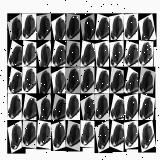Helmet: (52, 122, 66, 150), (81, 68, 95, 95), (140, 68, 154, 95), (110, 120, 124, 147), (80, 94, 94, 120), (96, 124, 110, 150), (141, 122, 154, 150), (22, 14, 36, 39), (8, 42, 22, 67), (110, 95, 124, 120), (125, 96, 138, 122), (66, 15, 80, 39), (139, 42, 153, 66), (110, 42, 124, 66), (22, 68, 36, 92), (140, 96, 154, 120), (66, 95, 80, 119), (111, 15, 124, 40), (125, 15, 138, 40), (125, 42, 138, 67), (96, 42, 109, 67), (23, 41, 36, 66), (111, 69, 124, 94), (96, 95, 109, 120), (24, 95, 37, 120), (68, 122, 79, 151), (96, 16, 109, 40), (96, 69, 109, 93), (24, 121, 36, 147), (38, 123, 50, 149), (81, 123, 94, 147), (81, 44, 95, 66), (52, 96, 66, 118), (67, 69, 80, 92), (125, 70, 138, 93), (38, 70, 50, 94), (126, 122, 138, 146), (142, 18, 154, 41), (67, 43, 79, 66), (10, 71, 22, 94), (38, 97, 50, 120), (39, 15, 50, 40), (53, 44, 65, 66), (54, 71, 65, 95), (84, 17, 95, 40), (54, 19, 66, 40), (11, 18, 22, 40), (40, 44, 50, 68)
